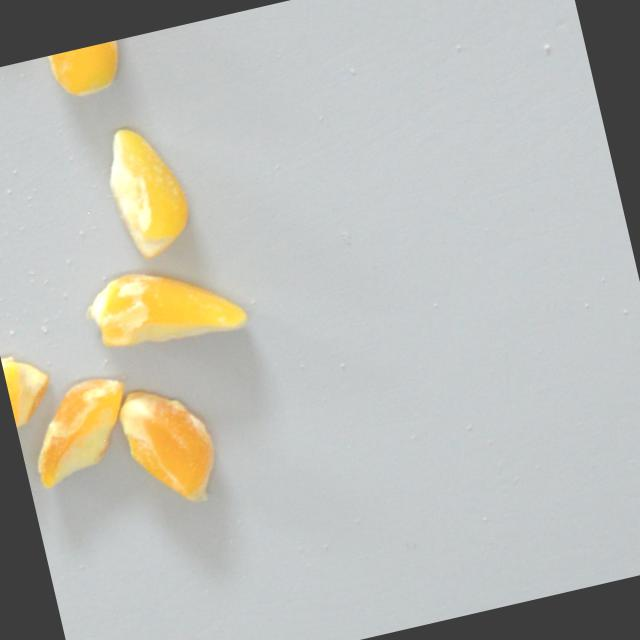pelicula: (76, 251, 253, 379), (70, 133, 221, 254), (93, 389, 238, 497), (10, 373, 140, 492), (10, 30, 158, 81), (1, 350, 61, 451)
